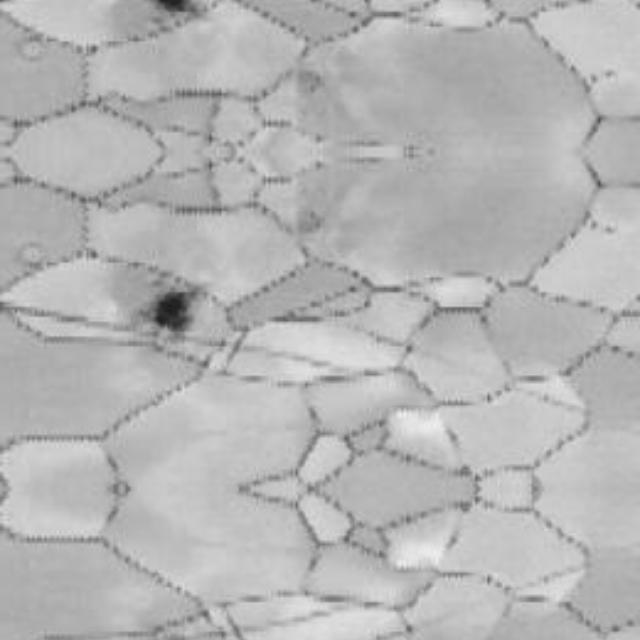good_void: (149, 284, 197, 336), (152, 0, 197, 18)
